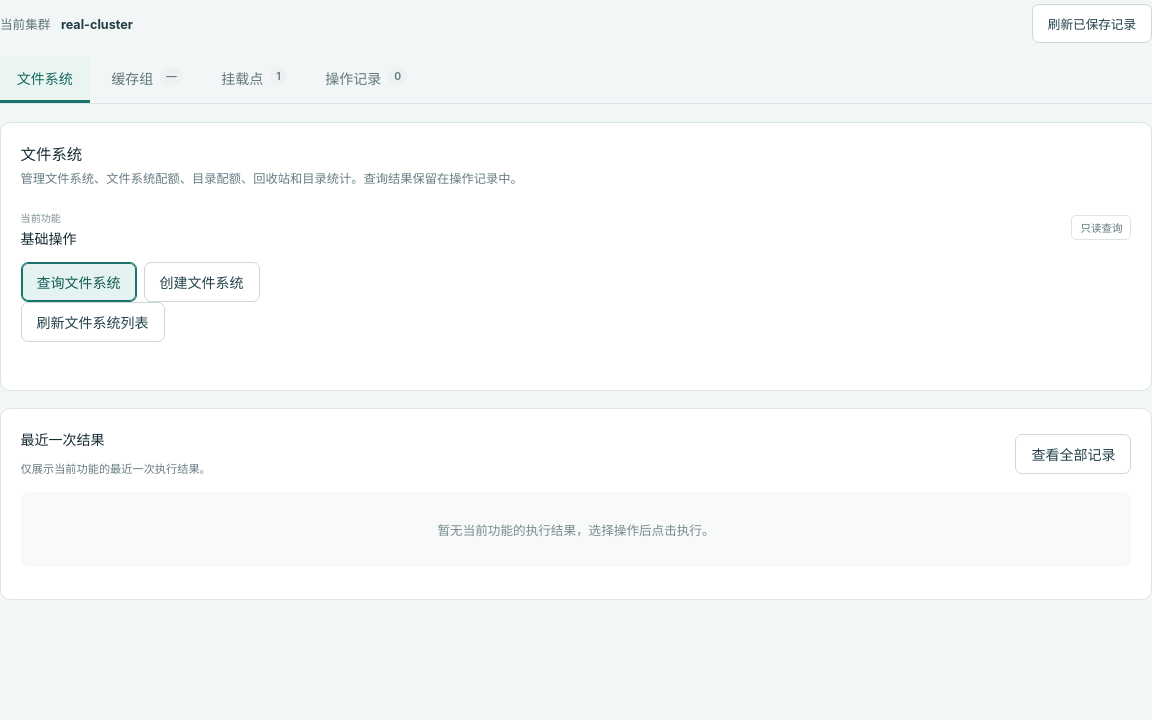
Test: refreshing saved records replaces the current operation's stale challenge
Click the button "文件系统" at (45, 80), box [0, 56, 90, 103]
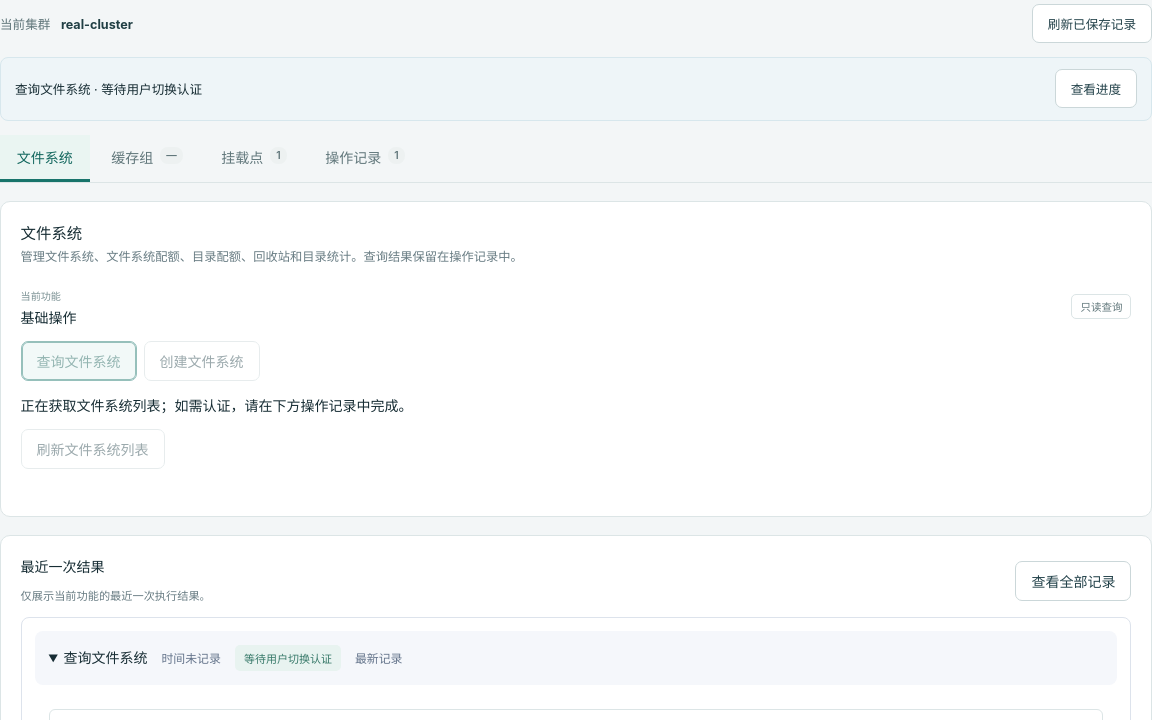
Click the button "刷新已保存记录" at (1092, 23), box [1032, 4, 1151, 42]
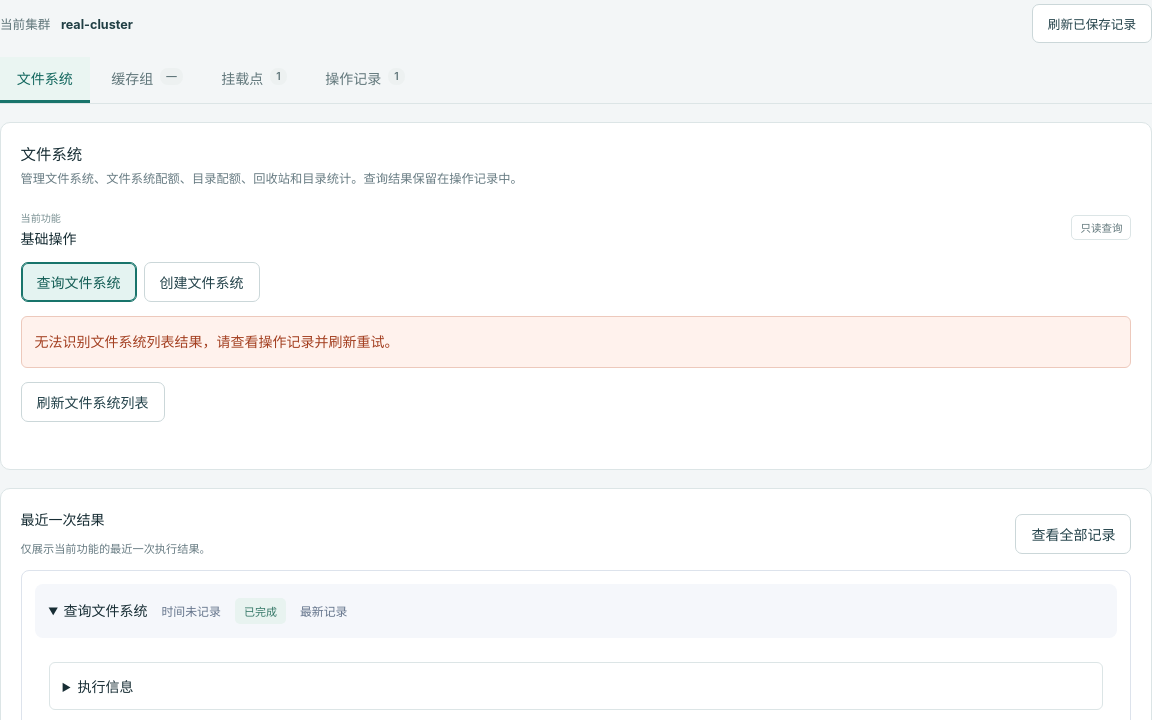
Check: the text "已完成" is shown, box [235, 598, 286, 624]
